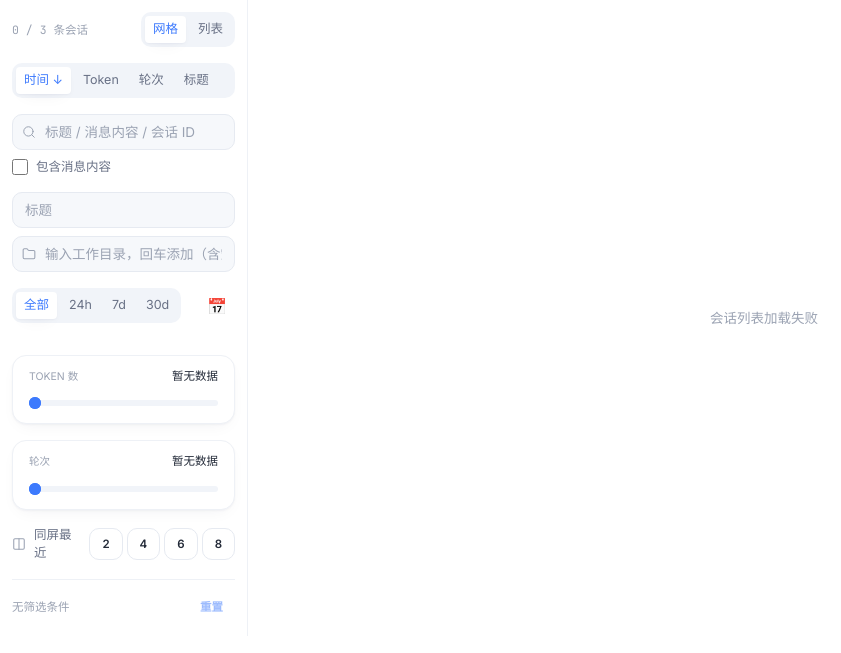
Test case: SessionLibrary (t227) › 加载失败且筛选 0 条时显示加载失败并保留清空全部条件
Check: the text "会话列表加载失败" is shown, box x1=710 y1=308 x2=818 y2=328
Type "x" into the field with placeholder "标题 / 消息内容 / 会话 ID".
click(124, 132); type("x")  # box x1=12 y1=114 x2=235 y2=150
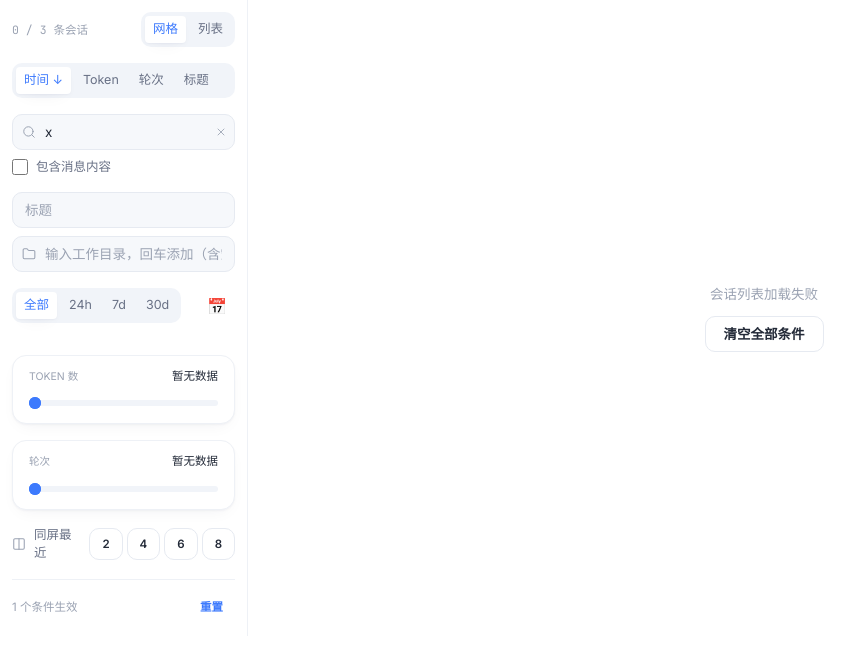
Check: the text "会话列表加载失败" is shown, box x1=710 y1=284 x2=818 y2=304
Check: the button "清空全部条件" is shown, box x1=704 y1=316 x2=824 y2=352
